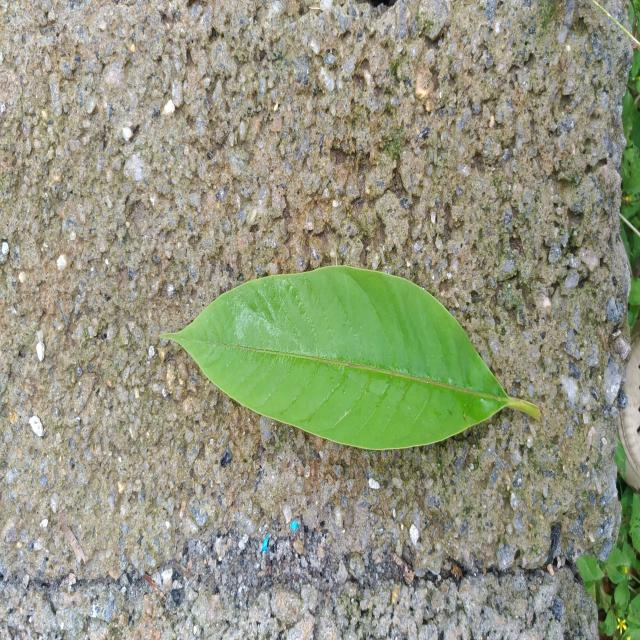coffee: (168, 267, 540, 449)
